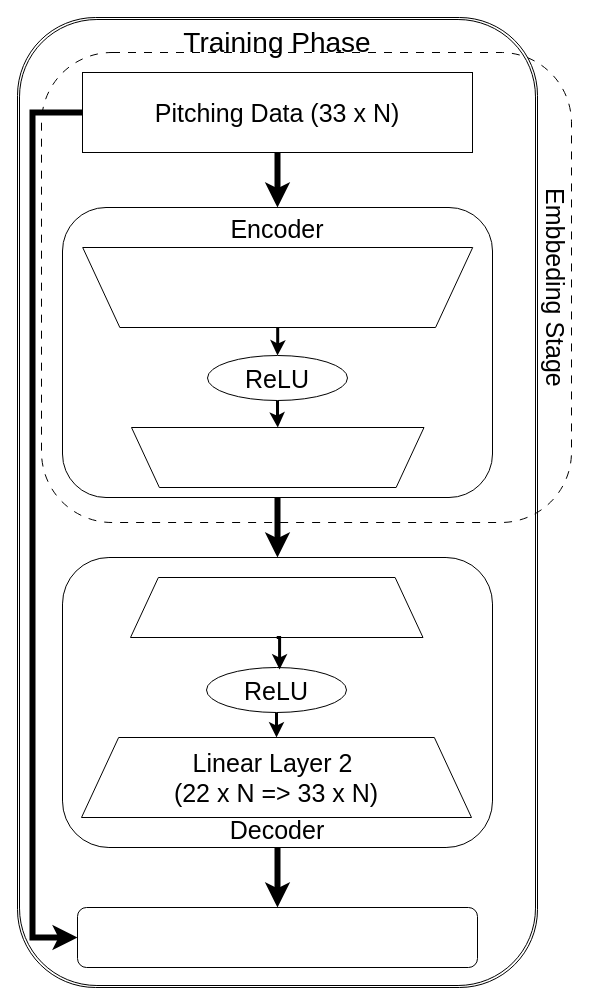
Image size: 589x1005. Some labels were removed from this diagram. The box of each missing label's shape, as (x1, y1, x2, y2) in pixels:
Linear Layer 1 (33 x N => 22 x N): (82, 246, 473, 328)
Linear Layer 1 (8 x N => 22 x N): (130, 576, 423, 638)
Linear Layer 2 (22 x N => 8 x N): (130, 426, 424, 488)
Loss (MSE): (76, 906, 478, 968)
